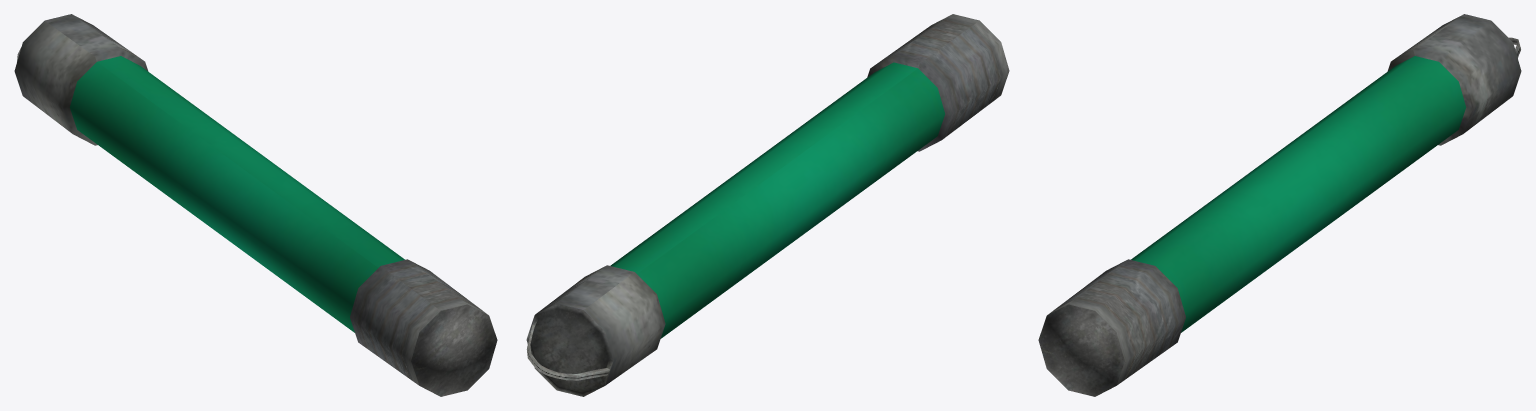
Rendered from item_glowstick.dae.
3 views of the same model, side by side, from view 1: azimuth 30°, elevation 25°; view 2: azimuth 150°, elevation 25°; view 3: azimuth 330°, elevation 25° (orthographic).
Visible parts, largest first — view 1: pCylinder1; view 2: pCylinder1; view 3: pCylinder1.
Boxes of the visible parts, x1,y1,x2,y2 form: pCylinder1: (14, 14, 497, 396); pCylinder1: (526, 14, 1009, 396); pCylinder1: (1038, 14, 1521, 396).
Size of what is drawn, in the model's own units: 0.034 by 0.0323 by 0.2796.
